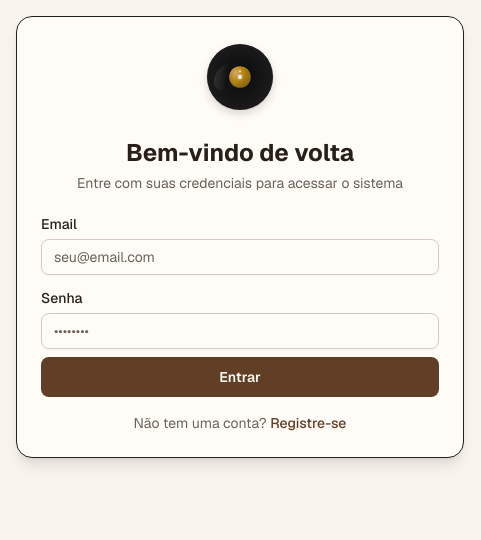
LoginPage › validação de email › should show error for invalid email format
The width and height of the screenshot is (481, 540).
Type "test..test@test.com" into the field labelled "Email" at (240, 257), box x1=41 y1=239 x2=439 y2=275
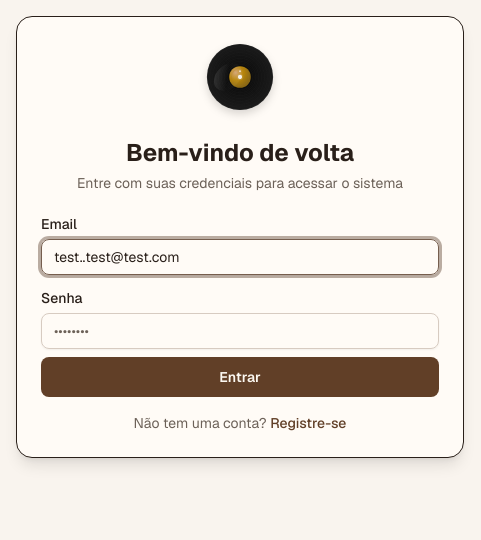
Click the button "Entrar" at (240, 377), box x1=41 y1=357 x2=439 y2=397
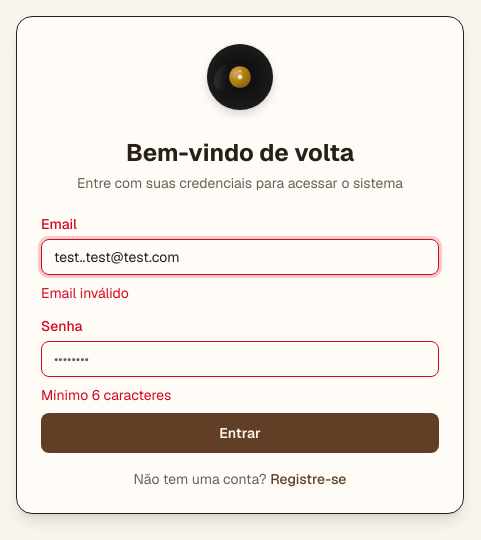
Now the text "Email inválido" is shown, box x1=41 y1=284 x2=129 y2=302
